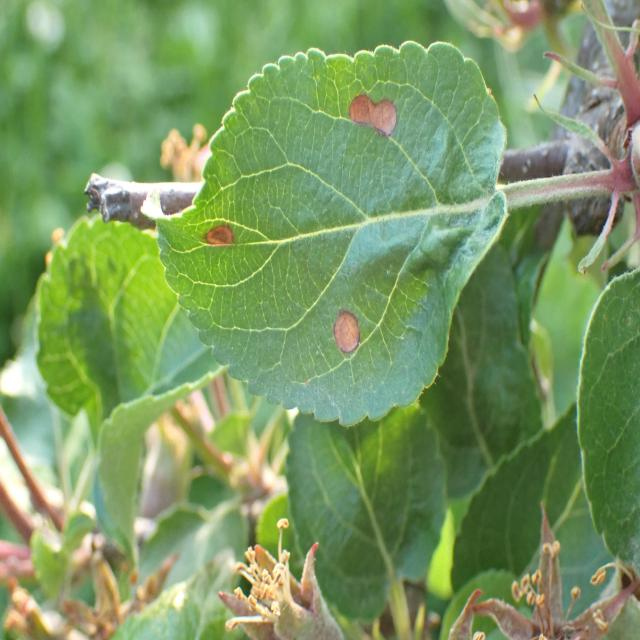Black Rot: (344, 66, 411, 169), (325, 294, 389, 399), (196, 198, 244, 276)
